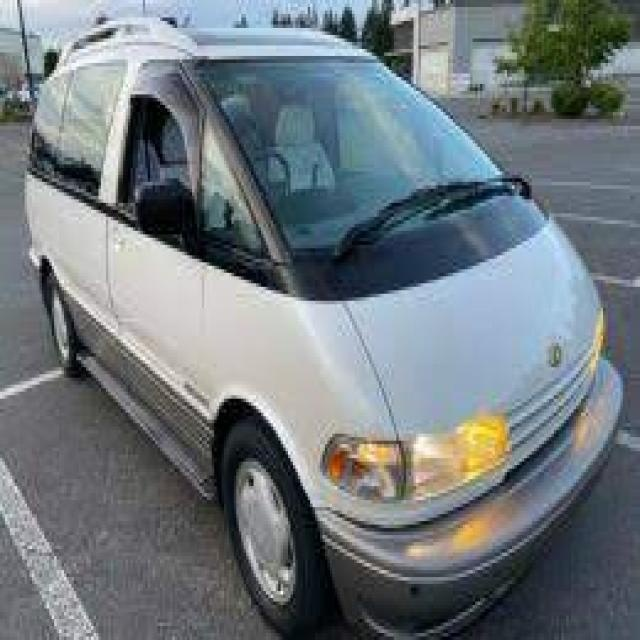Van: (25, 24, 630, 626)
